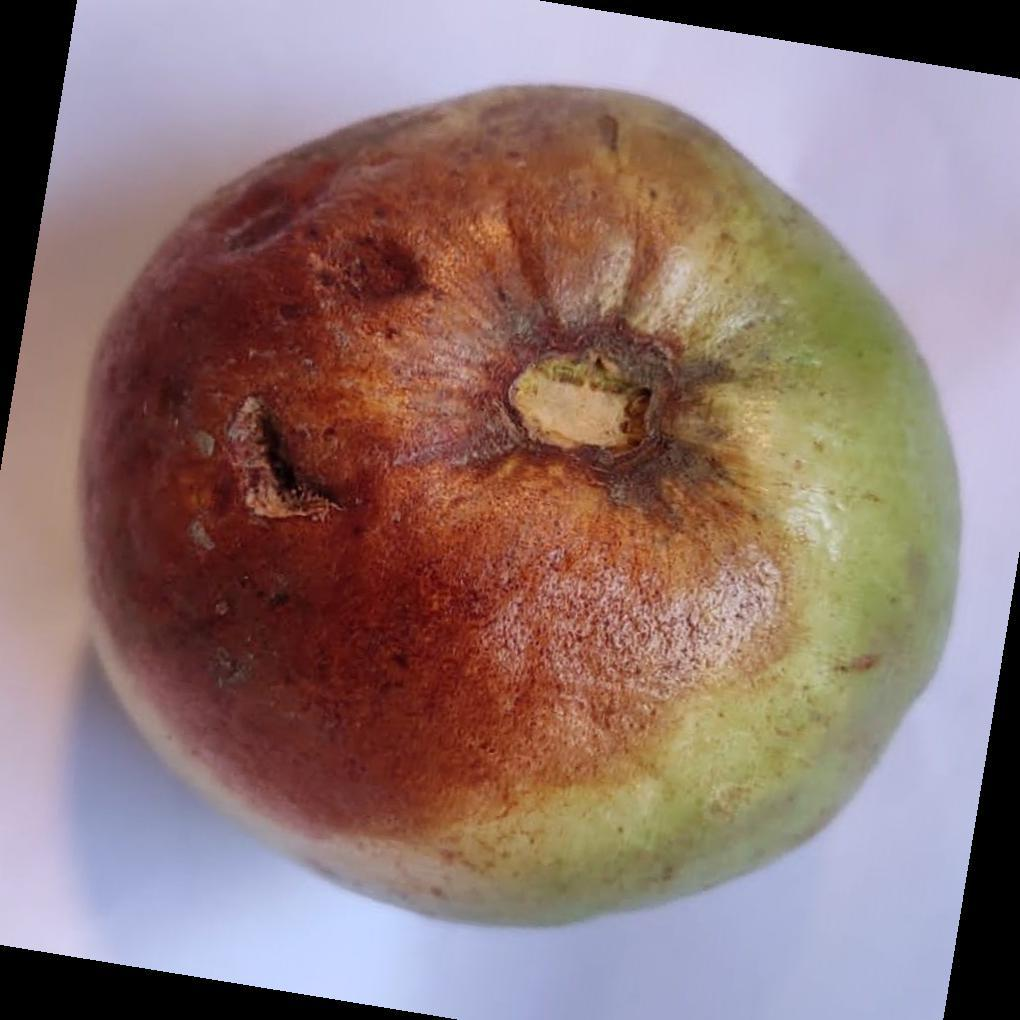FreshOrange: (80, 86, 959, 932)
